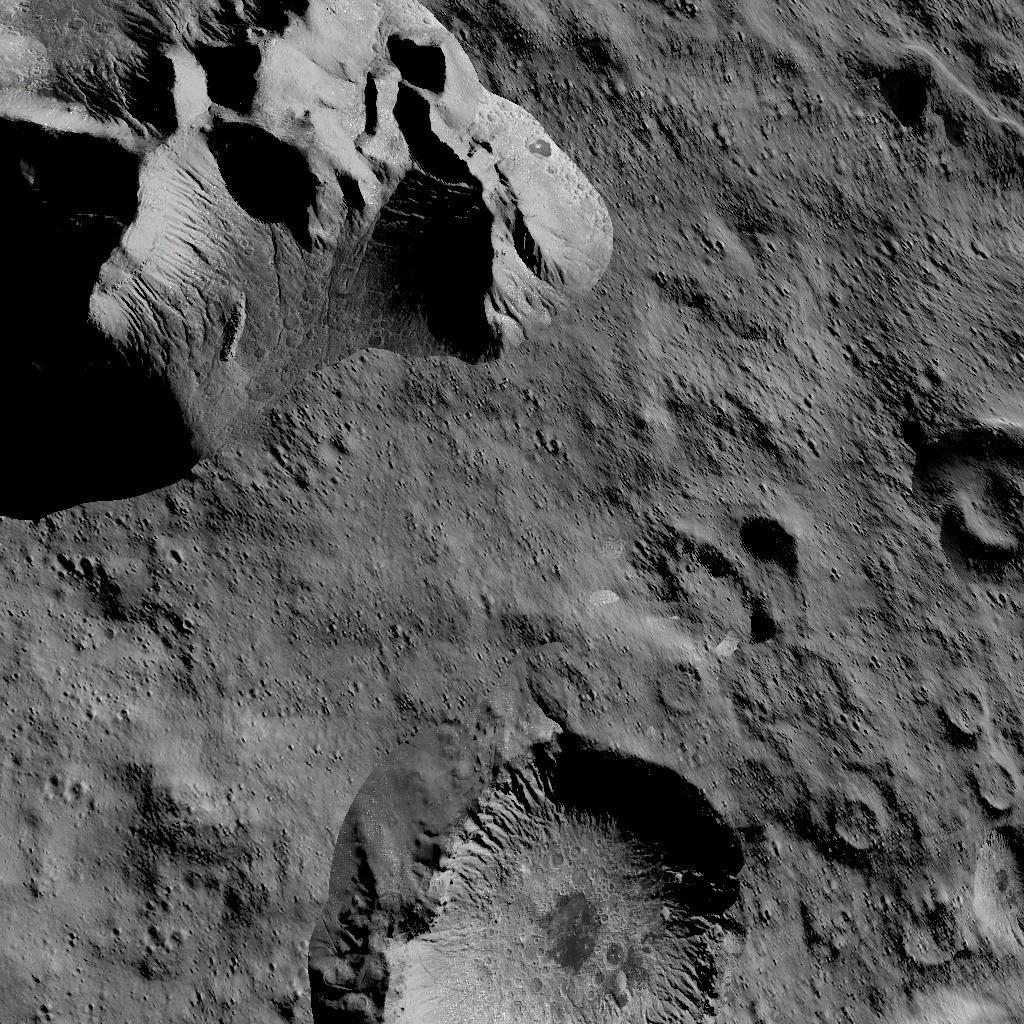Boulders: (0, 0, 618, 518)
Crater: (313, 726, 765, 1024), (909, 412, 1024, 576), (731, 508, 813, 636), (823, 788, 887, 858), (963, 756, 1024, 817), (929, 680, 993, 738), (649, 660, 712, 718)
Plan surface: (0, 530, 299, 1024), (629, 152, 1024, 398), (309, 526, 616, 716)
